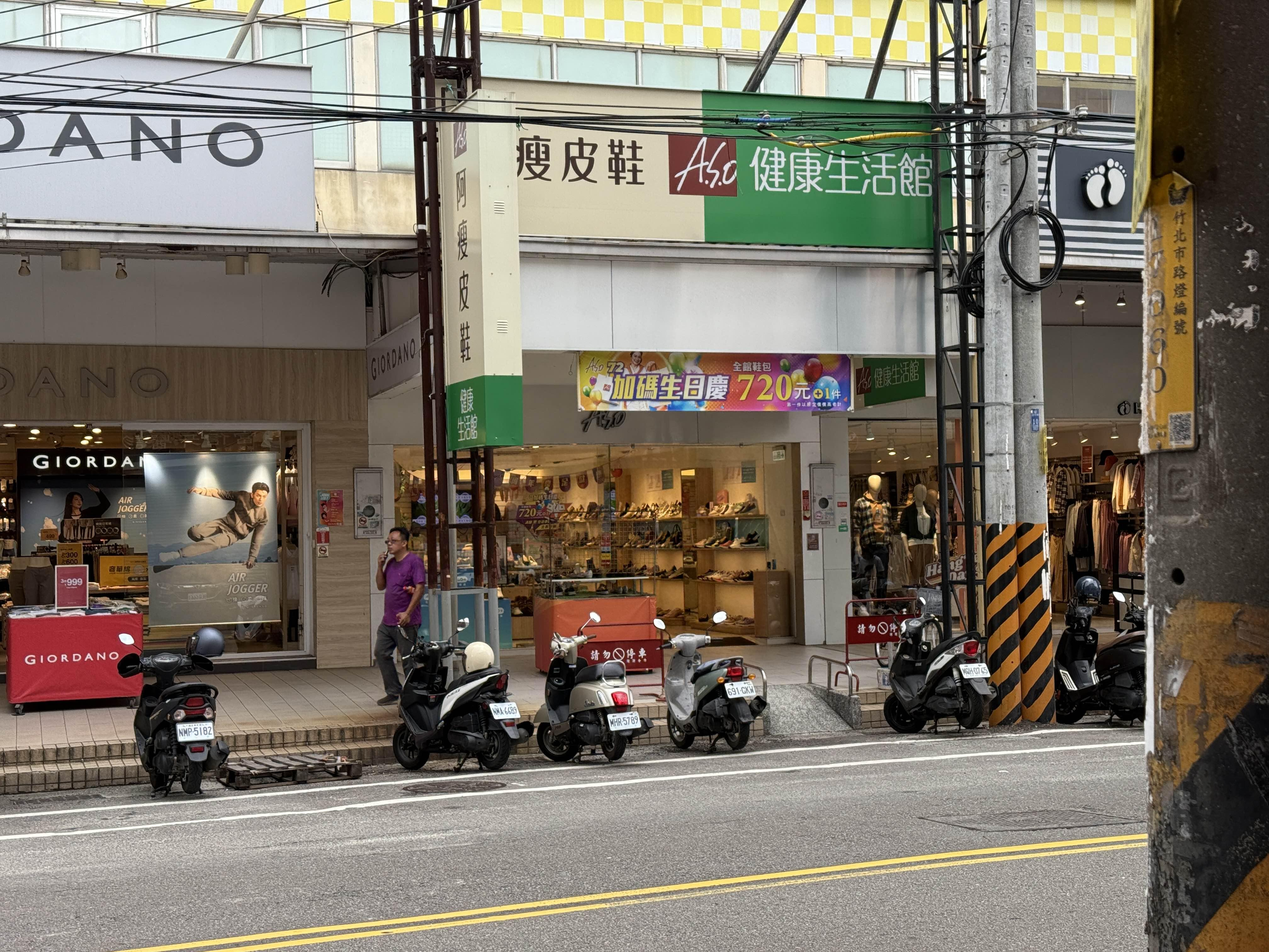NoHelmet: (384, 527, 413, 554)
